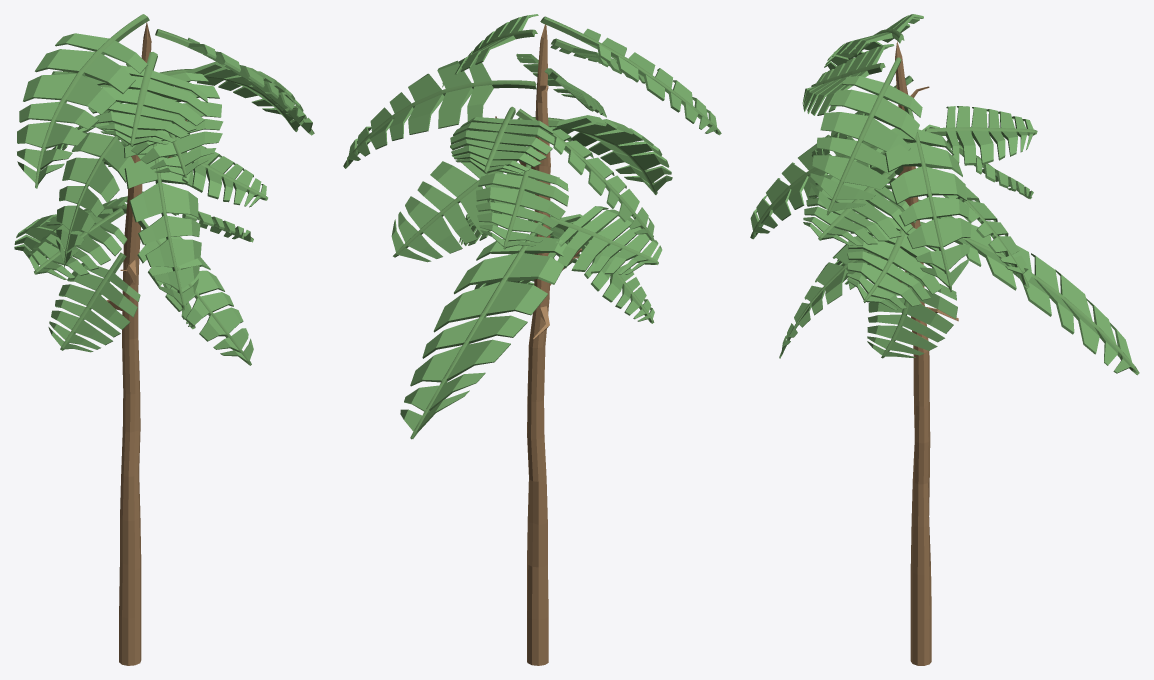
The model's file is leafytreee.fbx.
3 renders of one model, left to right at view 1: azimuth 30°, elevation 25°; view 2: azimuth 150°, elevation 25°; view 3: azimuth 270°, elevation 25°, orthographic. The views are drawn at different scales.
Visible parts, largest first — view 1: polySurface246; view 2: polySurface246; view 3: polySurface246.
Part boxes in pixels (x1=…): polySurface246: x1=14, y1=14, x2=314, y2=665; polySurface246: x1=343, y1=14, x2=721, y2=665; polySurface246: x1=750, y1=14, x2=1139, y2=665.
Bounding box in the file's own units: 13.59 × 25.81 × 14.5.
